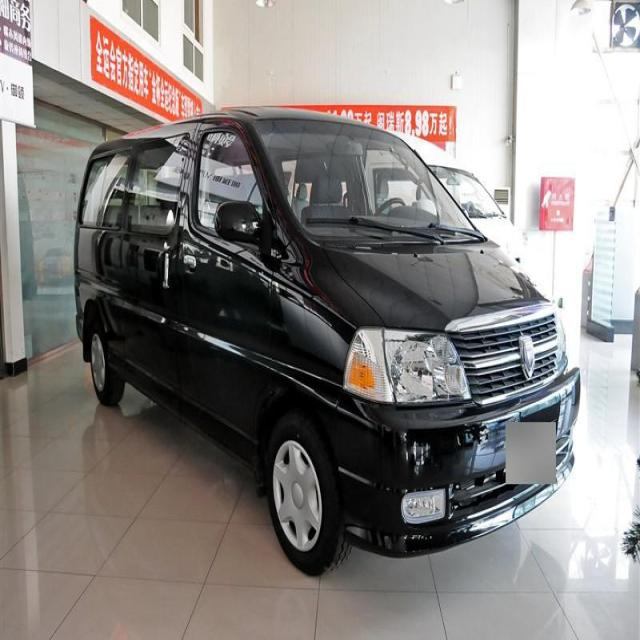door: (120, 128, 192, 377)
front_bumper: (325, 366, 582, 556)
front_glass: (253, 114, 482, 247)
front_right_side_door: (172, 117, 274, 472)
front_right_side_light: (339, 323, 472, 404)
front_right_side_mirror: (215, 196, 265, 253)
wheel: (266, 412, 342, 575), (89, 324, 122, 406)
